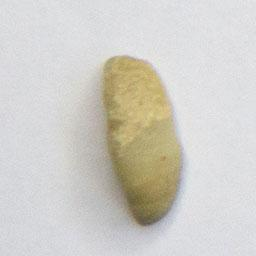defect: (99, 50, 186, 228)
